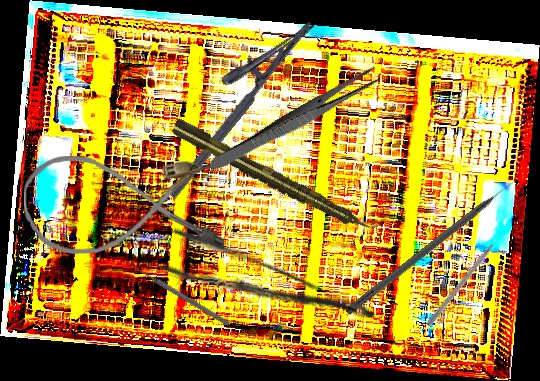Cannula: (23, 155, 226, 257)
Dressing Forceps: (156, 223, 379, 356), (206, 64, 383, 177)
Handpiece: (169, 115, 380, 242)
Hook Surgical: (344, 176, 521, 318)
Needle Holder: (144, 1, 316, 200)
Pusher: (425, 229, 508, 328), (129, 262, 231, 327)
